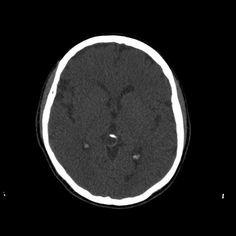Normal_Brain: (4, 4, 236, 236)
